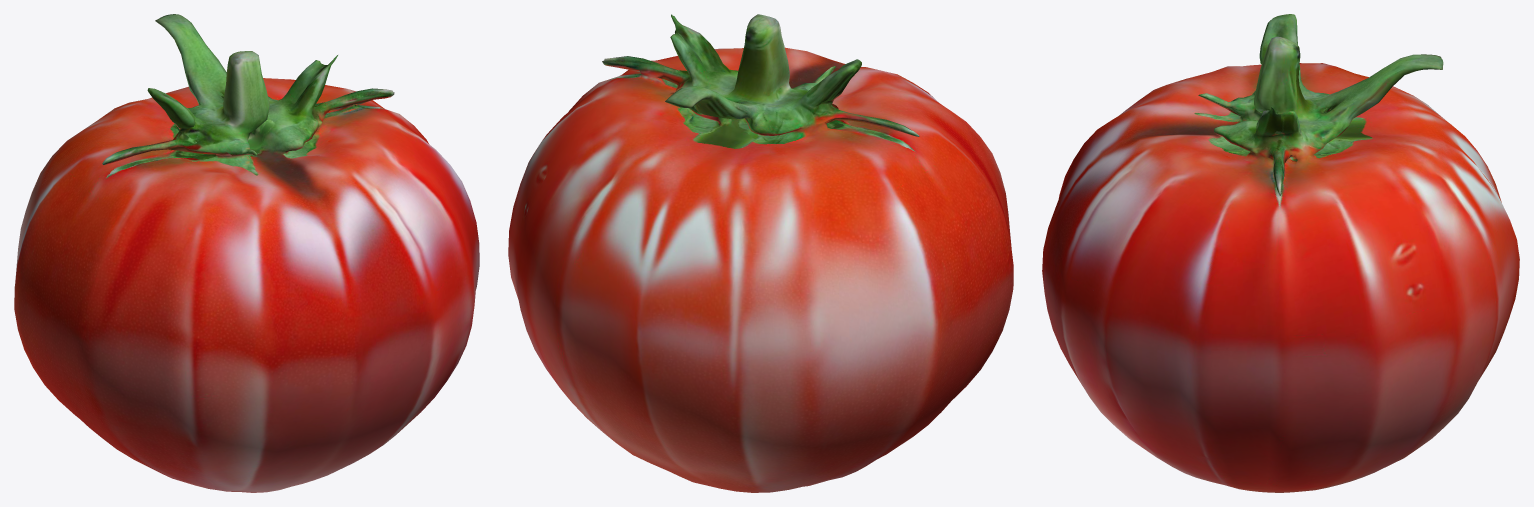
Rendered from tripo_convert_526ec2f9-5887-4feb-8200-e6e582e1d33d.glb.
3 views of the same model, side by side, from view 1: azimuth 30°, elevation 25°; view 2: azimuth 150°, elevation 25°; view 3: azimuth 270°, elevation 25° (orthographic). The views are drawn at different scales.
Visible parts, largest first — view 1: tripo_node_526ec2f9-5887-4feb-8200-e6e582e1d33d; view 2: tripo_node_526ec2f9-5887-4feb-8200-e6e582e1d33d; view 3: tripo_node_526ec2f9-5887-4feb-8200-e6e582e1d33d.
Boxes of the visible parts, <box> form: tripo_node_526ec2f9-5887-4feb-8200-e6e582e1d33d: <box>14,14,479,492</box>; tripo_node_526ec2f9-5887-4feb-8200-e6e582e1d33d: <box>508,14,1013,492</box>; tripo_node_526ec2f9-5887-4feb-8200-e6e582e1d33d: <box>1042,14,1519,492</box>.
Size of the model in its own units: 0.6326 by 0.6136 by 0.6301.
1 material, 1 textured.
